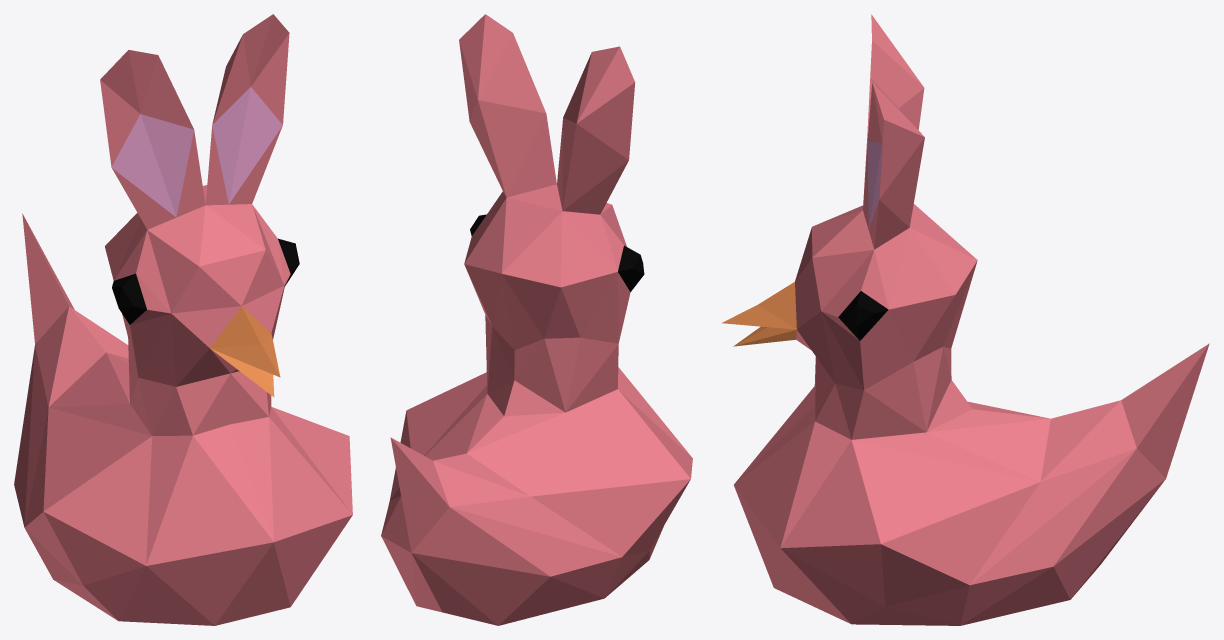
Rendered from RABBIT.glb.
The picture shows the model from 3 angles, left to right: view 1: azimuth 30°, elevation 25°; view 2: azimuth 150°, elevation 25°; view 3: azimuth 270°, elevation 25°; orthographic projection. The views are drawn at different scales.
Parts seen in each view (by area): view 1: Vert; view 2: Vert; view 3: Vert.
Part boxes in pixels (box(x1,y1,x2,y2)): Vert: box(14, 14, 352, 625); Vert: box(381, 14, 692, 625); Vert: box(721, 14, 1209, 625).
Bounding box in the file's own units: 1 × 1.8 × 1.45.
